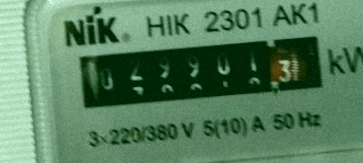0: (95, 63, 116, 91), (214, 47, 232, 77)
1: (244, 43, 260, 72)
2: (125, 54, 145, 82)
3: (274, 56, 294, 83)
9: (155, 52, 173, 80), (186, 50, 201, 78)
screen: (69, 24, 334, 118)
